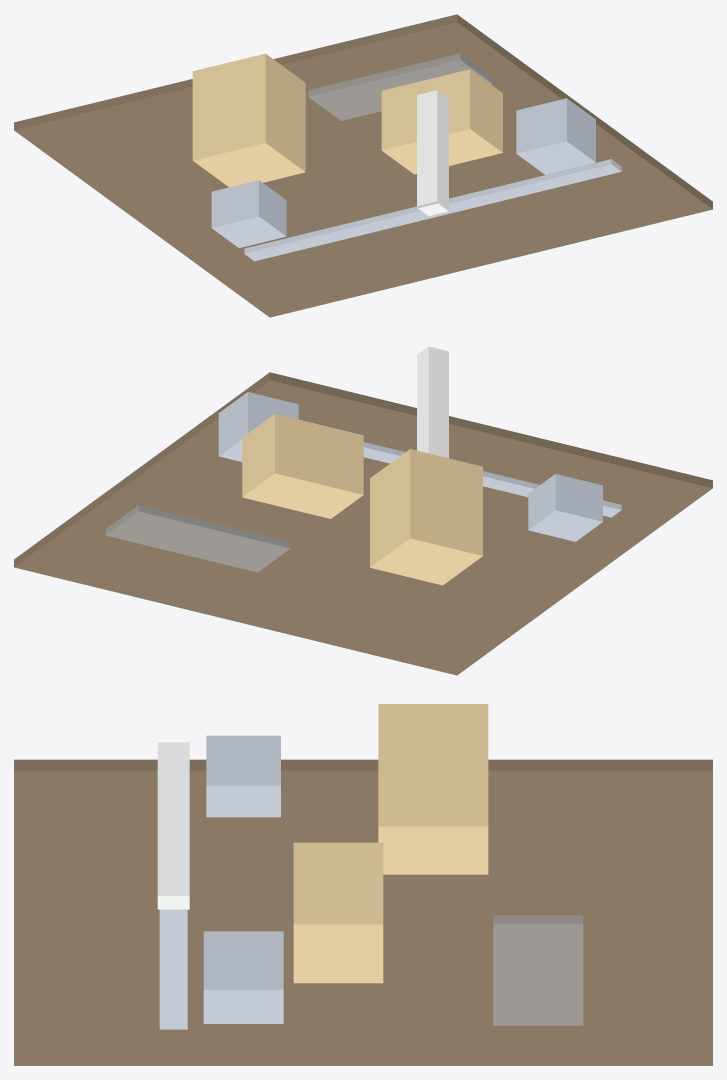
File: history-district.glb
The picture shows the model from 3 angles, top to bottom: view 1: azimuth 30°, elevation 25°; view 2: azimuth 150°, elevation 25°; view 3: azimuth 270°, elevation 25°; orthographic projection. The views are drawn at different scales.
Visible parts, largest first — view 1: environment floor, main structure, secondary structure, route layer, context block b, environment plane, context block a, observation marker; view 2: environment floor, main structure, secondary structure, environment plane, context block a, observation marker, context block b, route layer; view 3: environment floor, main structure, secondary structure, environment plane, context block b, context block a, observation marker, route layer.
Boxes of the visible parts, box(x1,y1,x2,y2) form: environment floor: box(14, 14, 712, 317); main structure: box(192, 53, 305, 187); secondary structure: box(381, 69, 502, 174); route layer: box(244, 159, 621, 261); context block b: box(516, 98, 595, 174); environment plane: box(308, 53, 493, 120); context block a: box(211, 180, 286, 247); observation marker: box(417, 90, 448, 216); environment floor: box(14, 372, 712, 675); main structure: box(370, 449, 482, 585); secondary structure: box(242, 414, 363, 518); environment plane: box(105, 505, 290, 572); context block a: box(528, 474, 602, 541); observation marker: box(417, 346, 448, 458); context block b: box(218, 392, 298, 461); route layer: box(363, 442, 621, 517); environment floor: box(14, 759, 712, 1065); main structure: box(378, 704, 488, 874); secondary structure: box(293, 842, 383, 983); environment plane: box(493, 915, 583, 1025); context block b: box(203, 931, 283, 1023); context block a: box(206, 735, 280, 817); observation marker: box(157, 742, 189, 909); route layer: box(159, 909, 187, 1029).
Bounding box in the file's own units: 7 × 1.87 × 7.
